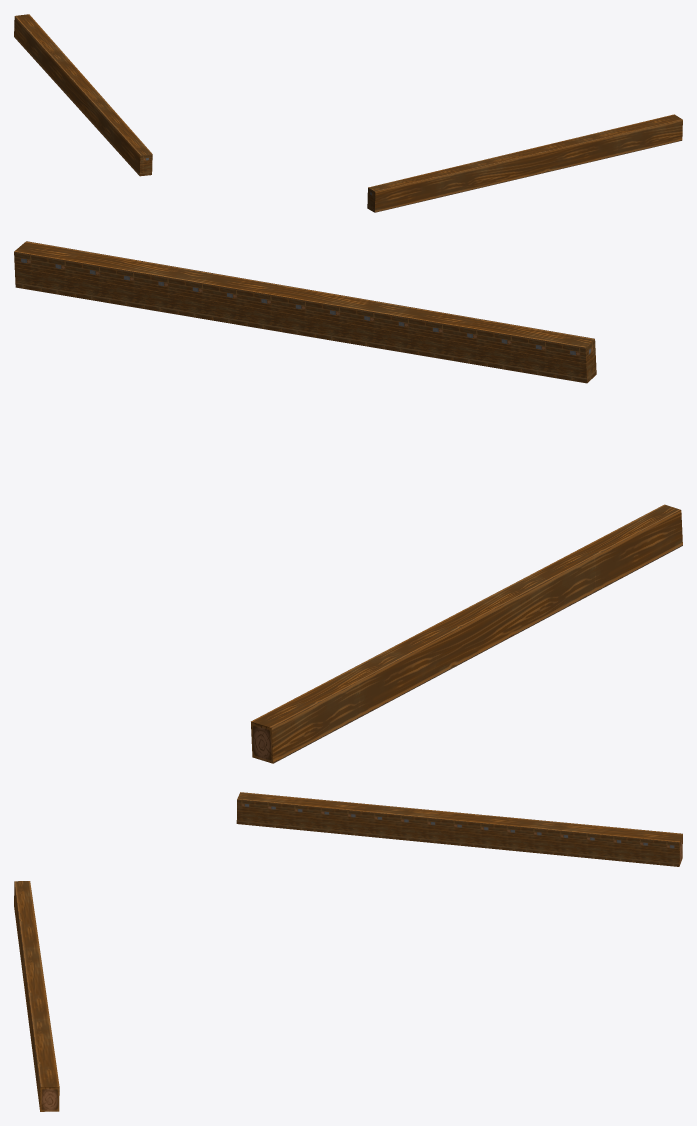
3 renders of one model, top to bottom at view 1: azimuth 30°, elevation 25°; view 2: azimuth 150°, elevation 25°; view 3: azimuth 270°, elevation 25°, orthographic. The views are drawn at different scales.
Parts seen in each view (by area): view 1: Cube.722; view 2: Cube.722; view 3: Cube.722.
Boxes of the visible parts, x1,y1,x2,y2 form: Cube.722: (14, 14, 682, 212); Cube.722: (14, 241, 682, 763); Cube.722: (14, 792, 682, 1111).
Bounding box in the file's own units: 1832 × 143 × 1885.
1 material, 1 textured.
